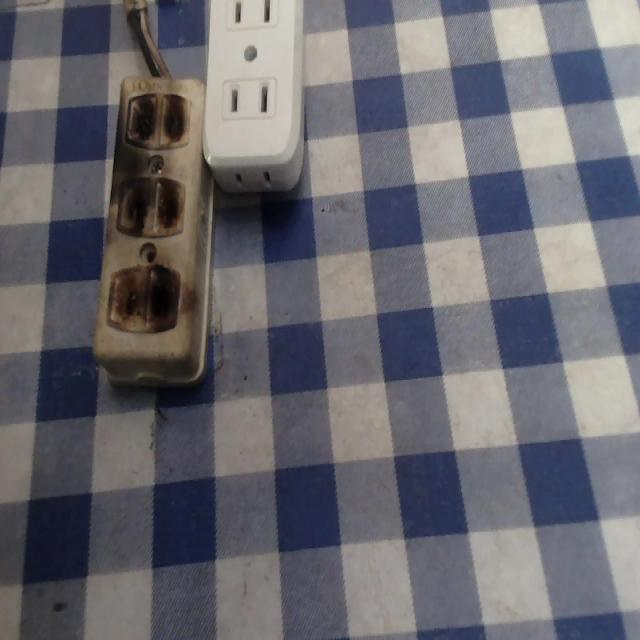-: (104, 263, 189, 341), (114, 173, 190, 247), (118, 88, 195, 156)
